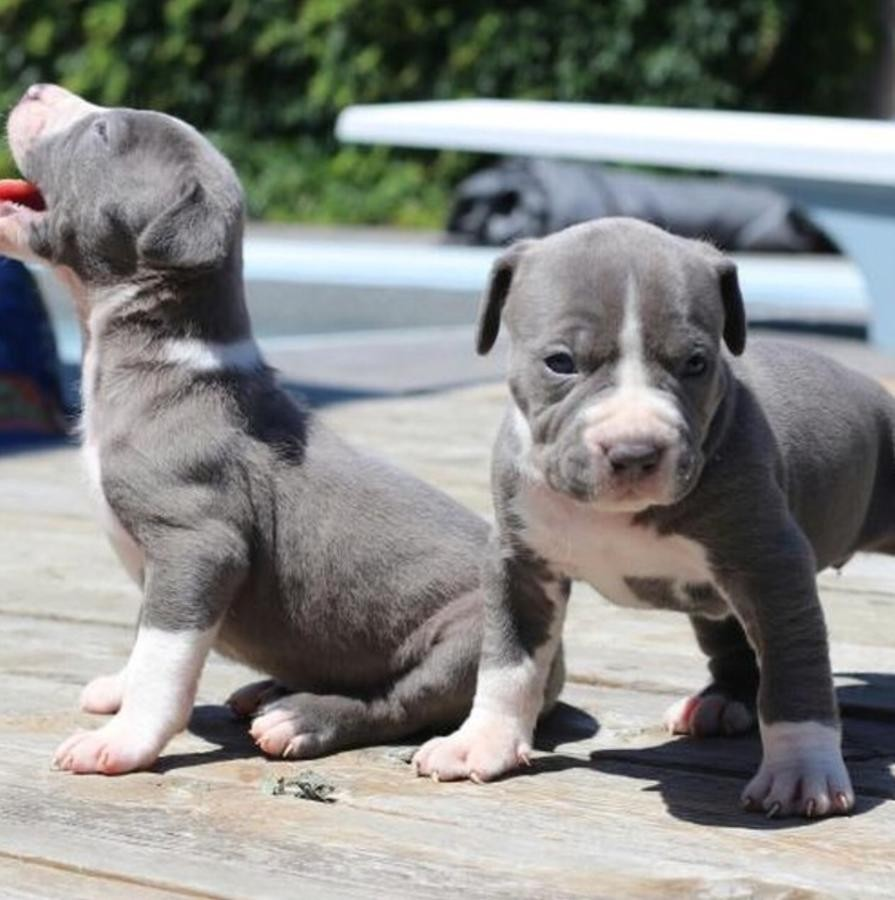am_pit_bull_terrier: (0, 81, 565, 776), (413, 216, 894, 823)
